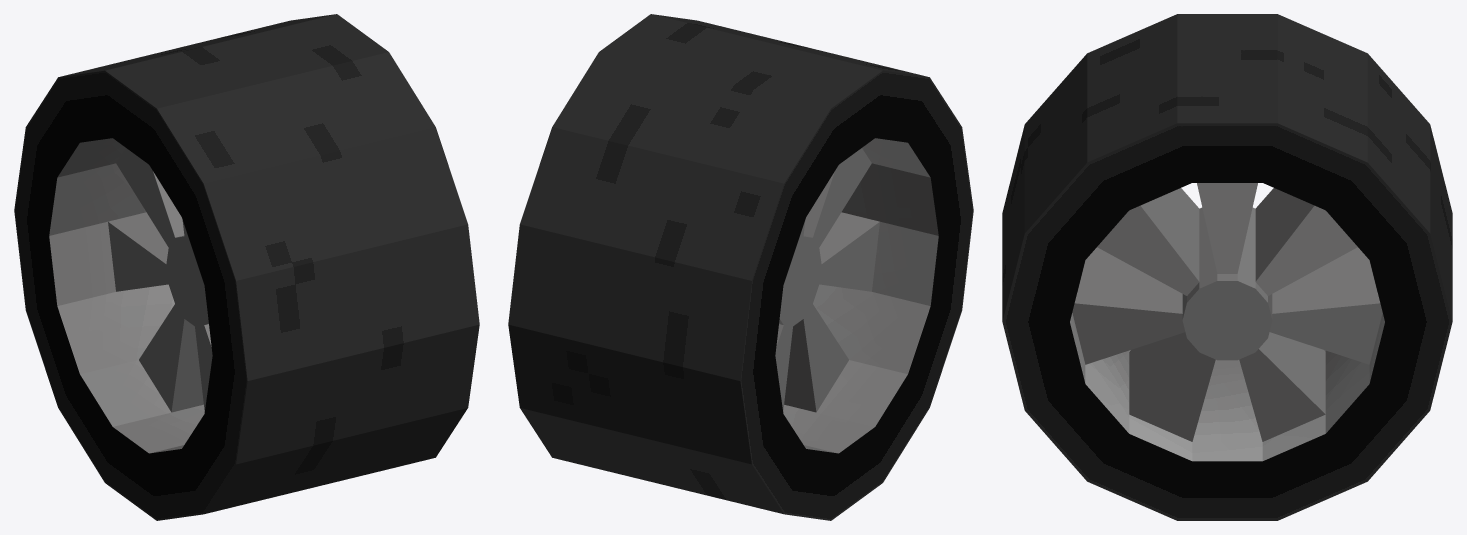
File: Wheel.fbx
3 views of the same model, side by side, from view 1: azimuth 30°, elevation 25°; view 2: azimuth 150°, elevation 25°; view 3: azimuth 270°, elevation 25° (orthographic). The views are drawn at different scales.
Parts seen in each view (by area): view 1: wheel; view 2: wheel; view 3: wheel.
Part boxes in pixels (x1=…): wheel: x1=14, y1=14, x2=479, y2=520; wheel: x1=508, y1=14, x2=973, y2=520; wheel: x1=1002, y1=14, x2=1452, y2=520.
Bounding box in the file's own units: 0.5032 × 0.8539 × 0.8759.
